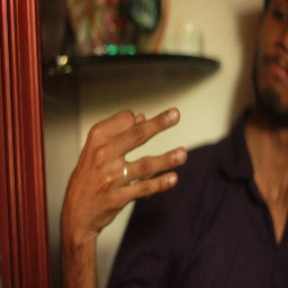K: (63, 104, 188, 228)
